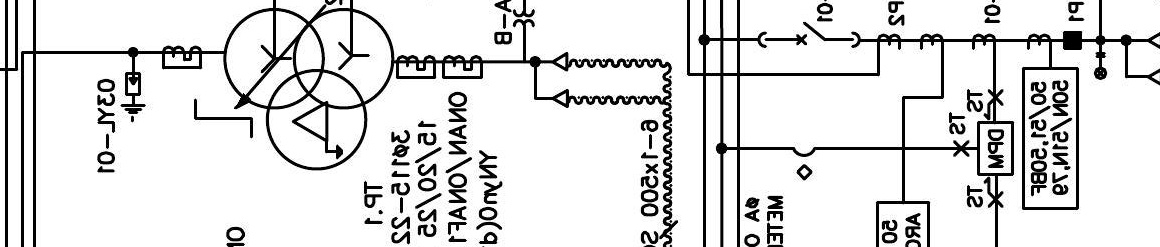11522_tx_ynyn0d1: (222, 7, 396, 172)
115_la: (120, 71, 146, 123)
22_breaker: (757, 21, 861, 49)
22_ll: (1093, 51, 1108, 81)
DPM: (976, 120, 1015, 175)
terminator_double: (533, 51, 569, 109)
